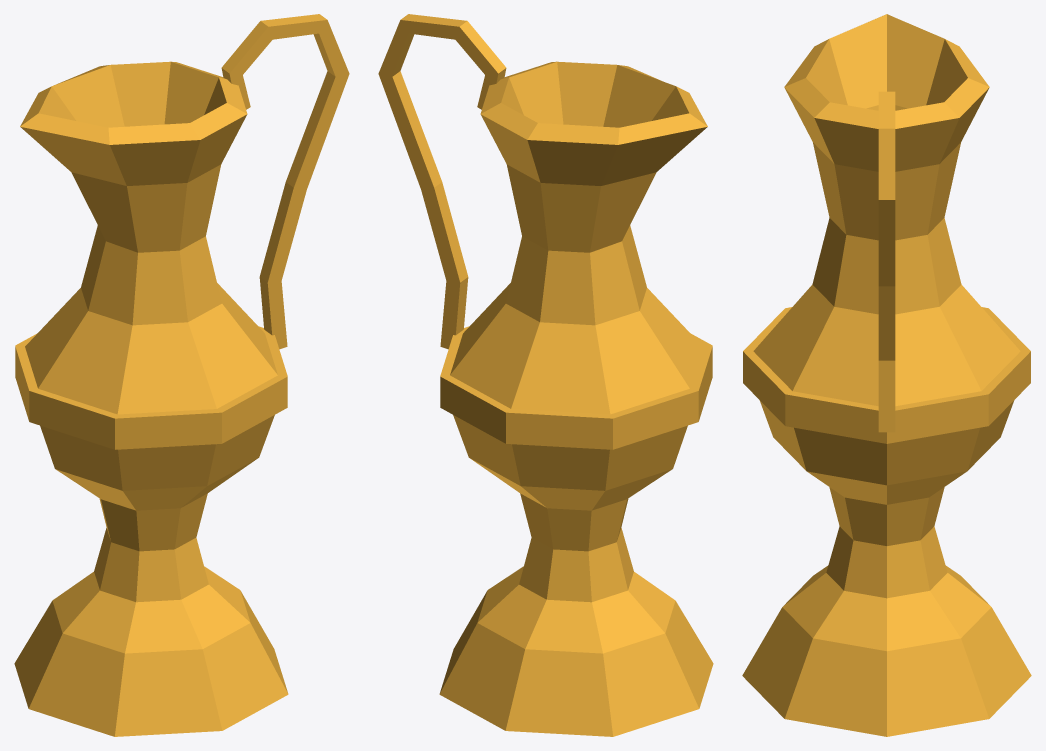
File: Jug.fbx
3 renders of one model, left to right at view 1: azimuth 30°, elevation 25°; view 2: azimuth 150°, elevation 25°; view 3: azimuth 270°, elevation 25°, orthographic. The views are drawn at different scales.
Visible parts, largest first — view 1: Jug; view 2: Jug; view 3: Jug.
Boxes of the visible parts, x1,y1,x2,y2 form: Jug: (14,14,349,736); Jug: (378,14,713,736); Jug: (742,14,1031,736).
Bounding box in the file's own units: 25.8 × 47.54 × 19.48.
